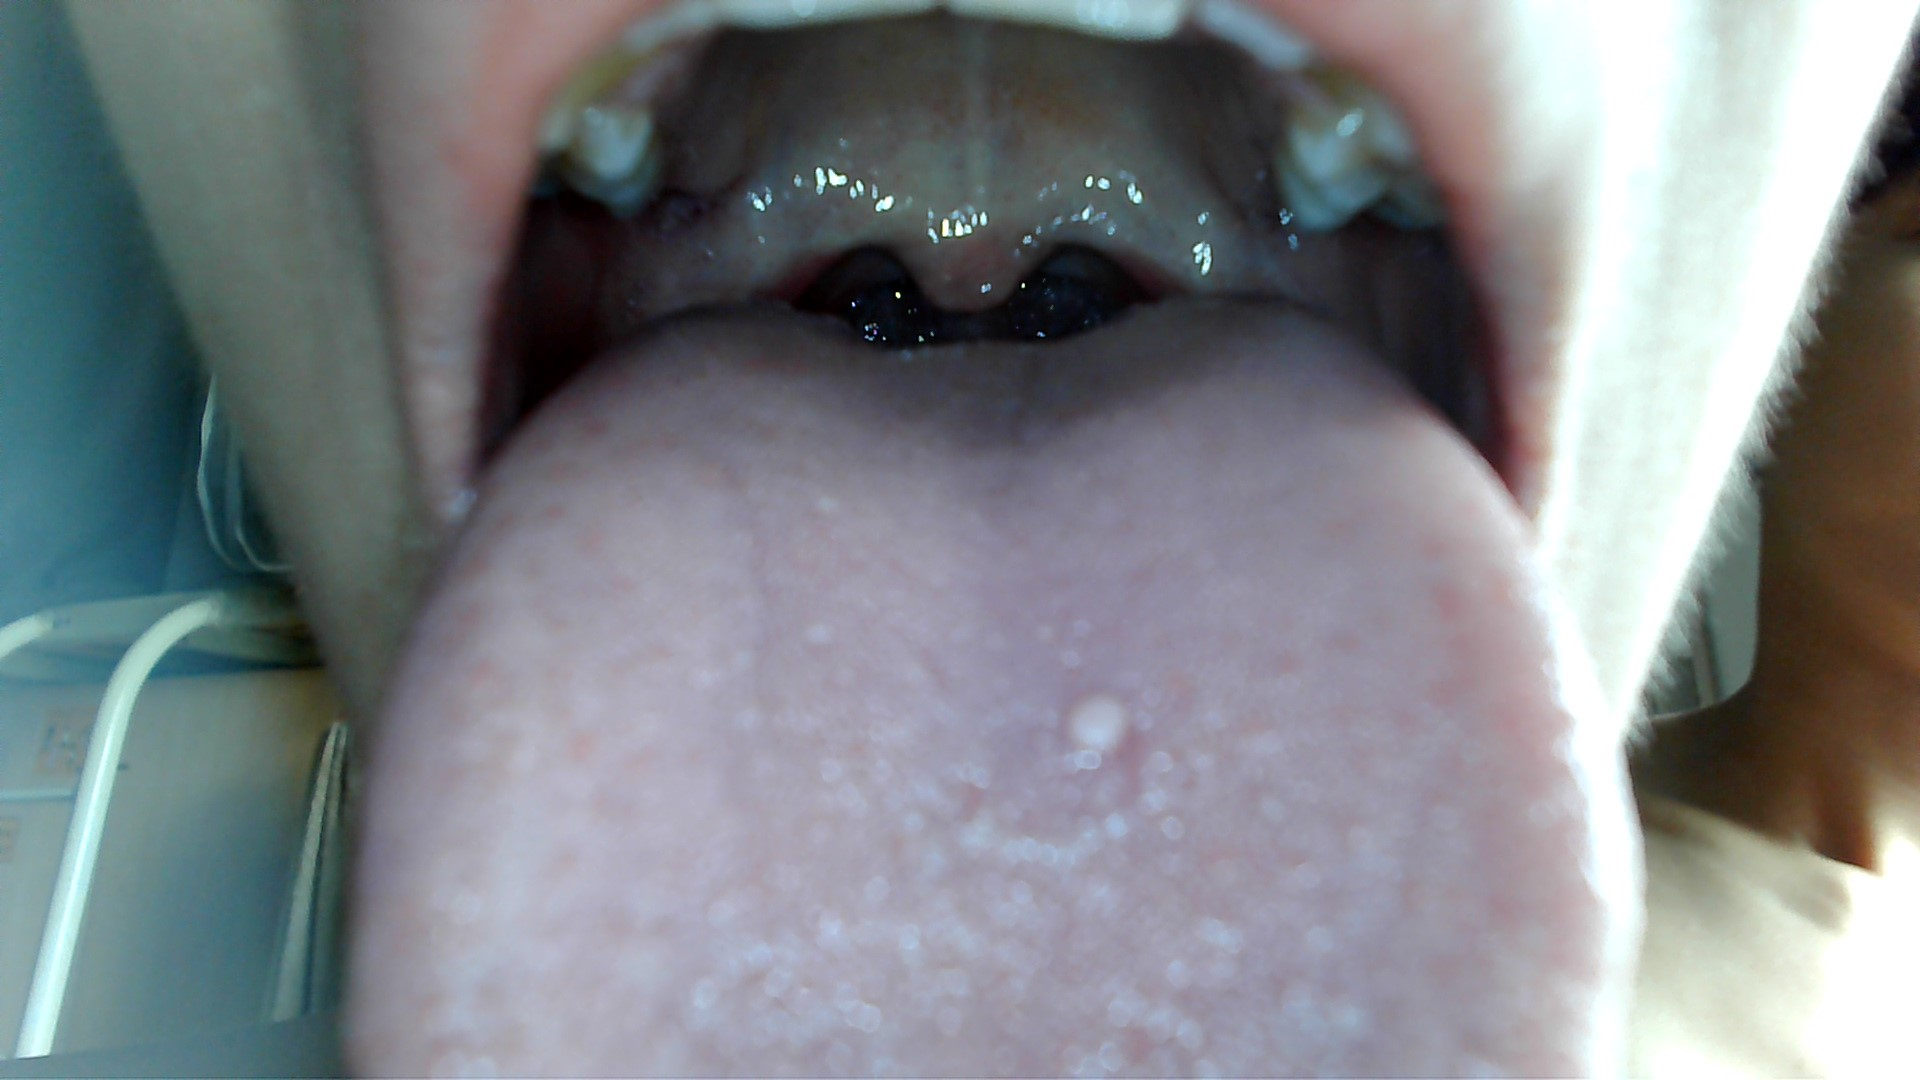throat: (1050, 220, 1197, 301), (738, 228, 890, 305)
